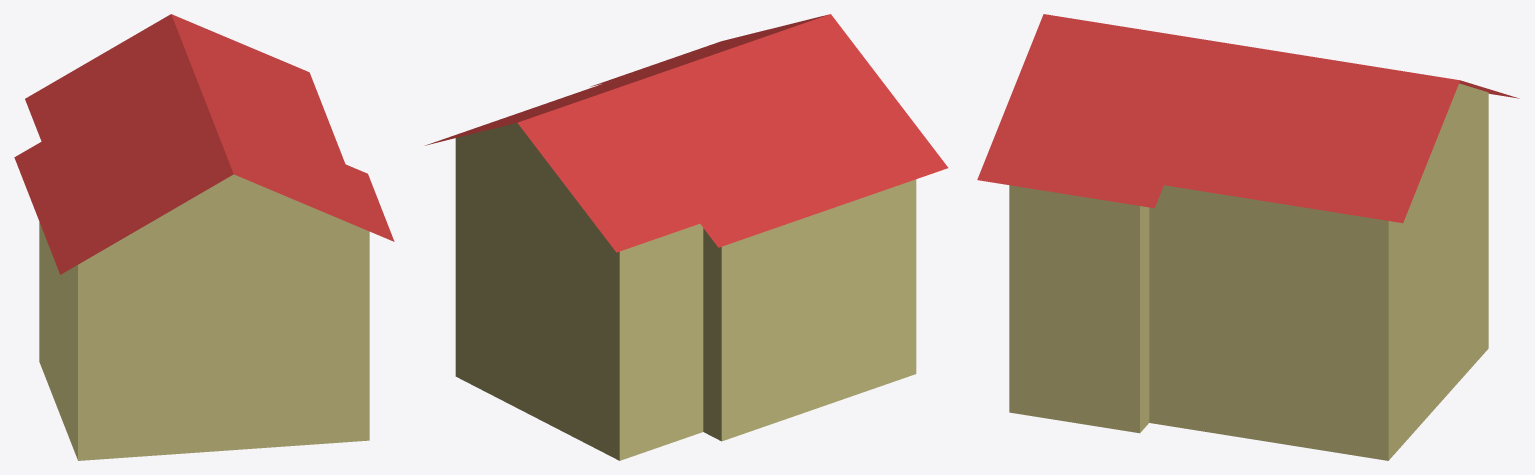
3 renders of one model, left to right at view 1: azimuth 30°, elevation 25°; view 2: azimuth 150°, elevation 25°; view 3: azimuth 270°, elevation 25°, orthographic. The views are drawn at different scales.
Visible parts, largest first — view 1: group_5, group_3, group_4; view 2: group_5, group_3, group_4; view 3: group_5, group_3, group_4.
Part boxes in pixels (bbox=[...]): group_5: bbox=[39, 174, 369, 460]; group_3: bbox=[15, 14, 369, 274]; group_4: bbox=[14, 14, 394, 273]; group_5: bbox=[455, 123, 916, 460]; group_3: bbox=[457, 14, 948, 252]; group_4: bbox=[425, 15, 946, 247]; group_5: bbox=[1009, 83, 1488, 460]; group_3: bbox=[1009, 17, 1463, 222]; group_4: bbox=[977, 14, 1519, 222].
Size of the model in its own units: 14.95 by 16.27 by 10.9.
